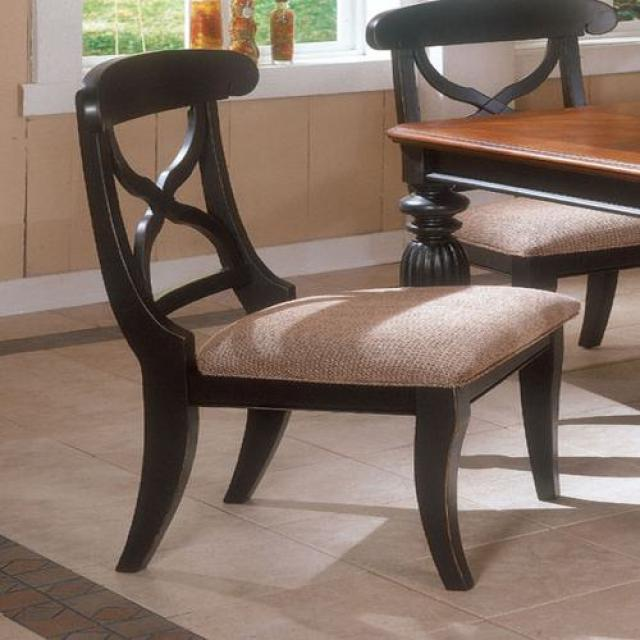chair: (73, 50, 581, 594)
